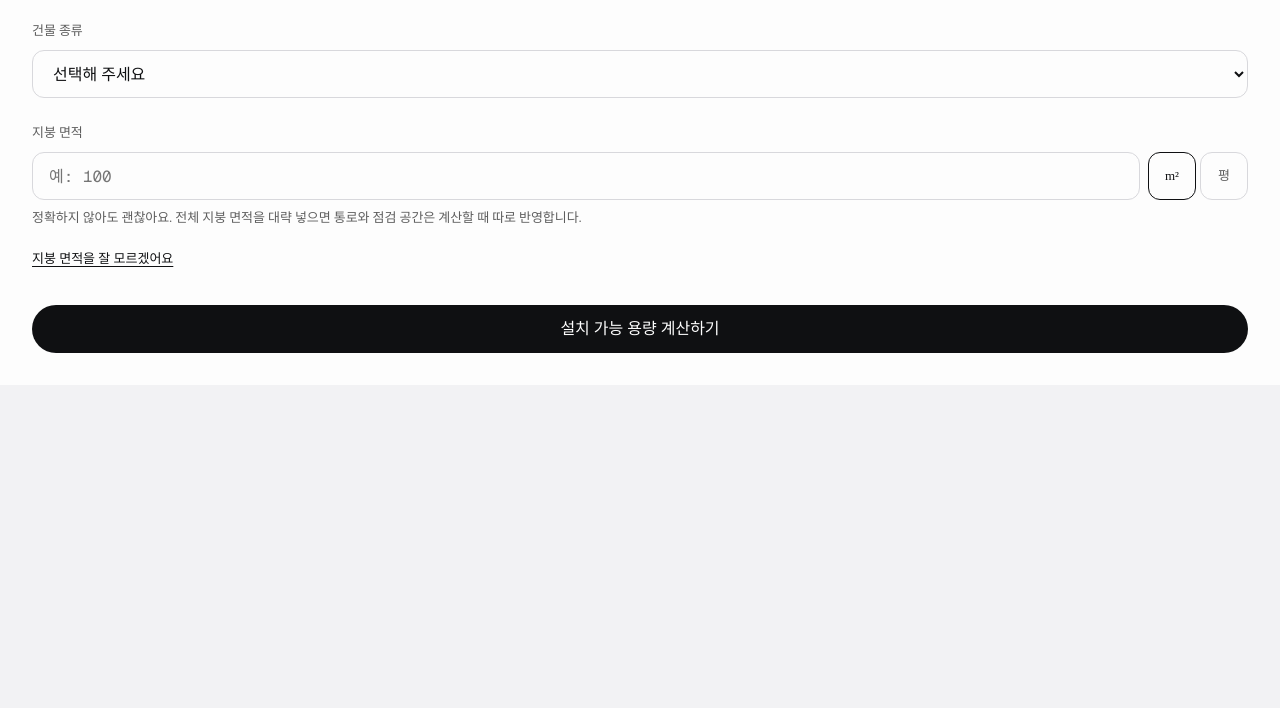
Test: SolarCalculator › makes unavailable money results explicit instead of inventing numbers
Select "주택" in the dropdown labelled "건물 종류" at (640, 74), box [32,50,1248,98]
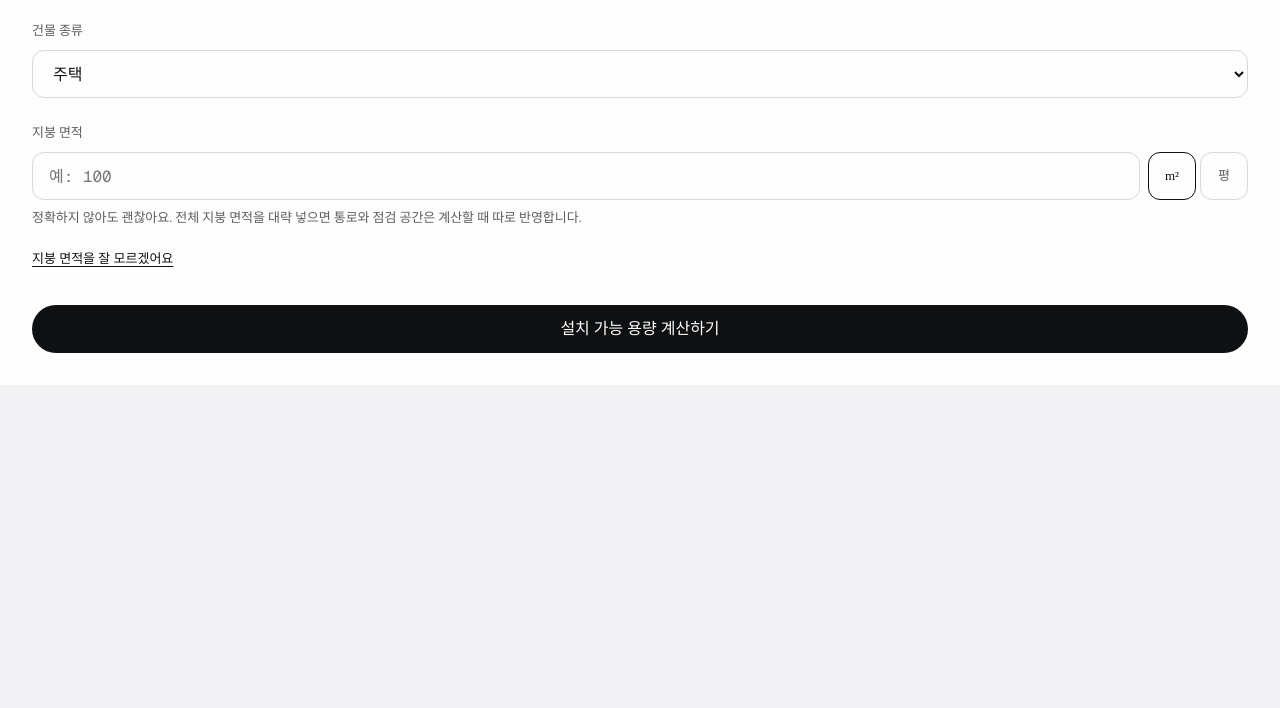
Type "100" into the number field labelled "지붕 면적" at (586, 176), box [32,152,1140,200]
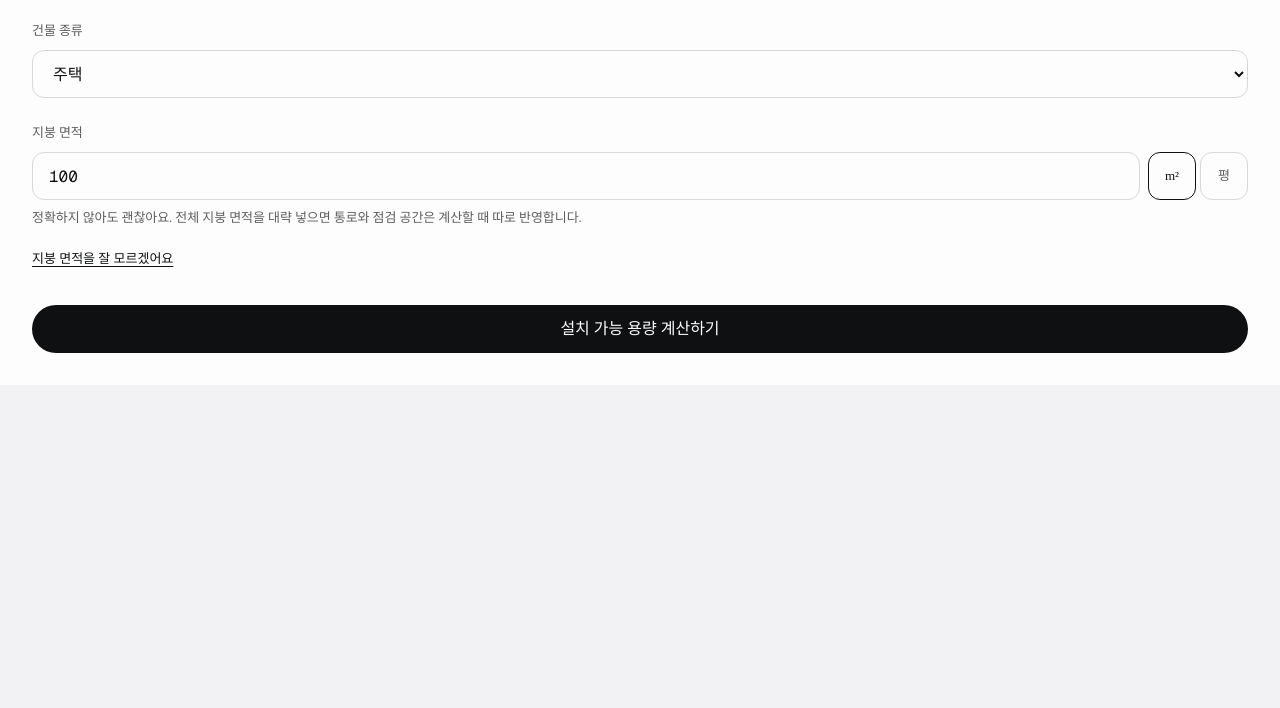
Click the button "설치 가능 용량 계산하기" at (640, 329), box [32,305,1248,353]
(page scrolled)
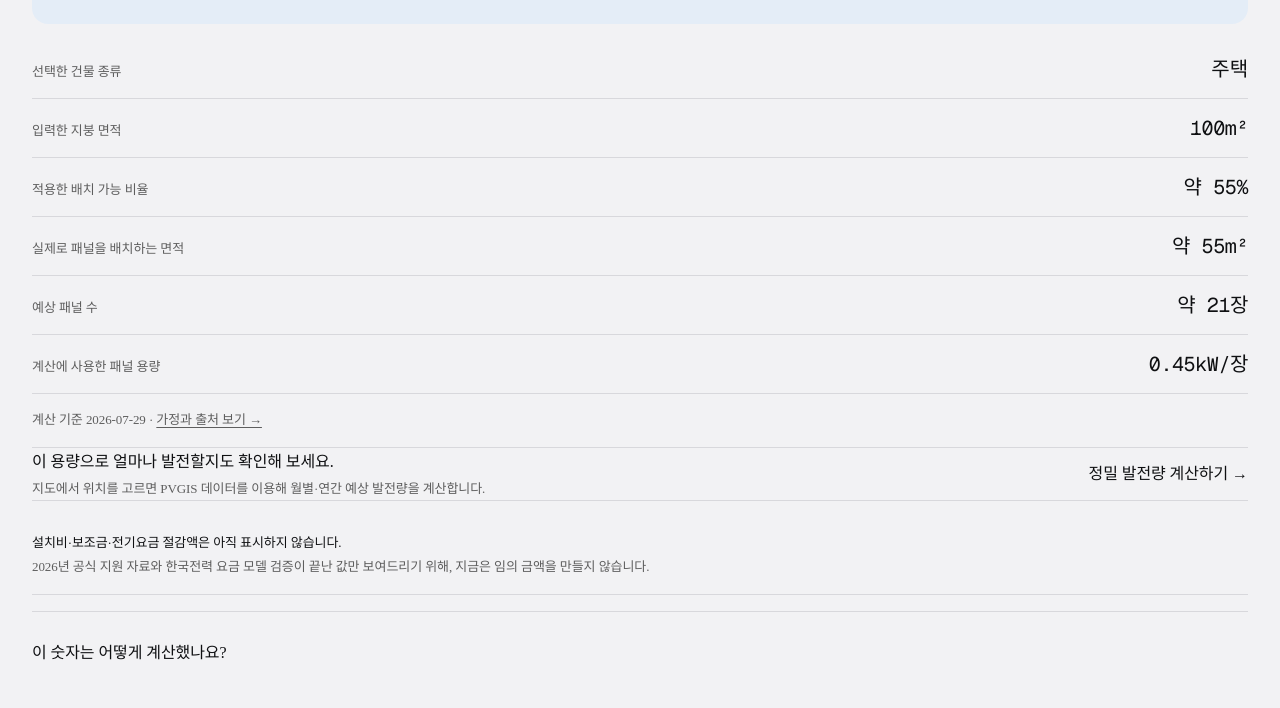
Result: the element named "아직 제공하지 않는 금액 결과" shows "설치비·보조금·전기요금 절감액은 아직 표시하지 않습니다." at [32,535,342,550]
